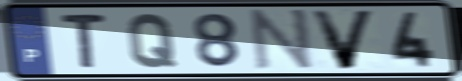4: (389, 10, 438, 70)
8: (191, 12, 244, 70)
N: (250, 7, 316, 73)
Q: (125, 11, 179, 70)
T: (58, 12, 110, 71)
V: (307, 8, 380, 72)
